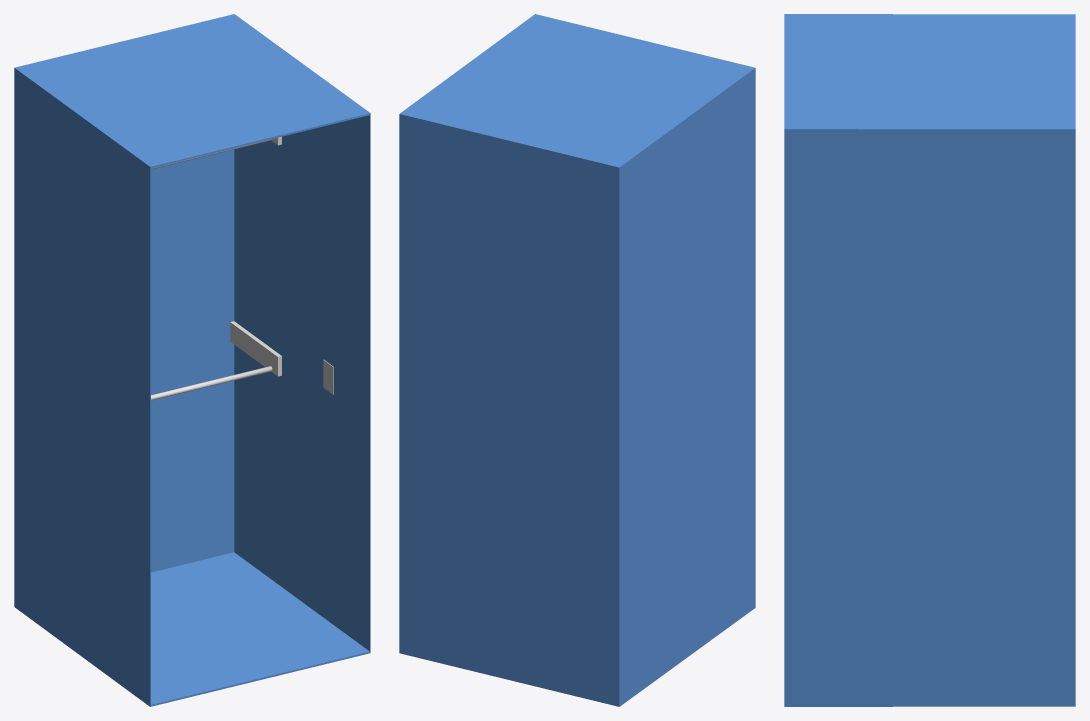
Rendered from closet-shelves.glb.
The picture shows the model from 3 angles, left to right: view 1: azimuth 30°, elevation 25°; view 2: azimuth 150°, elevation 25°; view 3: azimuth 270°, elevation 25°; orthographic projection. The views are drawn at different scales.
Parts seen in each view (by area): view 1: Closet, LowShelf.R, LowShelfPole; view 2: Closet; view 3: Closet.
Boxes of the visible parts, bbox=[...] form: Closet: bbox=[14, 14, 370, 706]; LowShelf.R: bbox=[230, 321, 281, 376]; LowShelfPole: bbox=[151, 366, 272, 400]; Closet: bbox=[399, 14, 755, 706]; Closet: bbox=[784, 14, 1075, 706].
Bounding box in the file's own units: 1.05 × 2.46 × 1.12.
